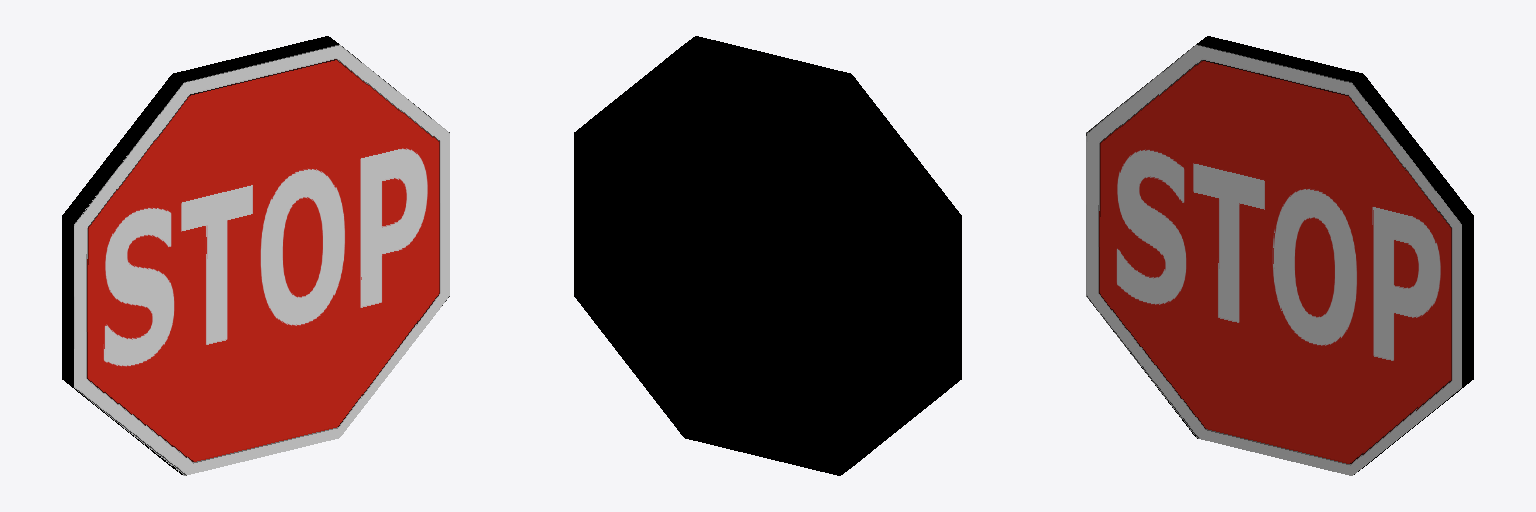
3 views of the same model, side by side, from view 1: azimuth 30°, elevation 25°; view 2: azimuth 150°, elevation 25°; view 3: azimuth 330°, elevation 25° (orthographic).
Parts seen in each view (by area): view 1: Stop; view 2: Stop; view 3: Stop.
Boxes of the visible parts, x1=… form: Stop: x1=62, y1=36, x2=449, y2=475; Stop: x1=574, y1=36, x2=961, y2=475; Stop: x1=1086, y1=36, x2=1473, y2=475.
Bounding box in the file's own units: 1.85 × 1.85 × 0.1.
Materials: 1 (1 with a texture image).